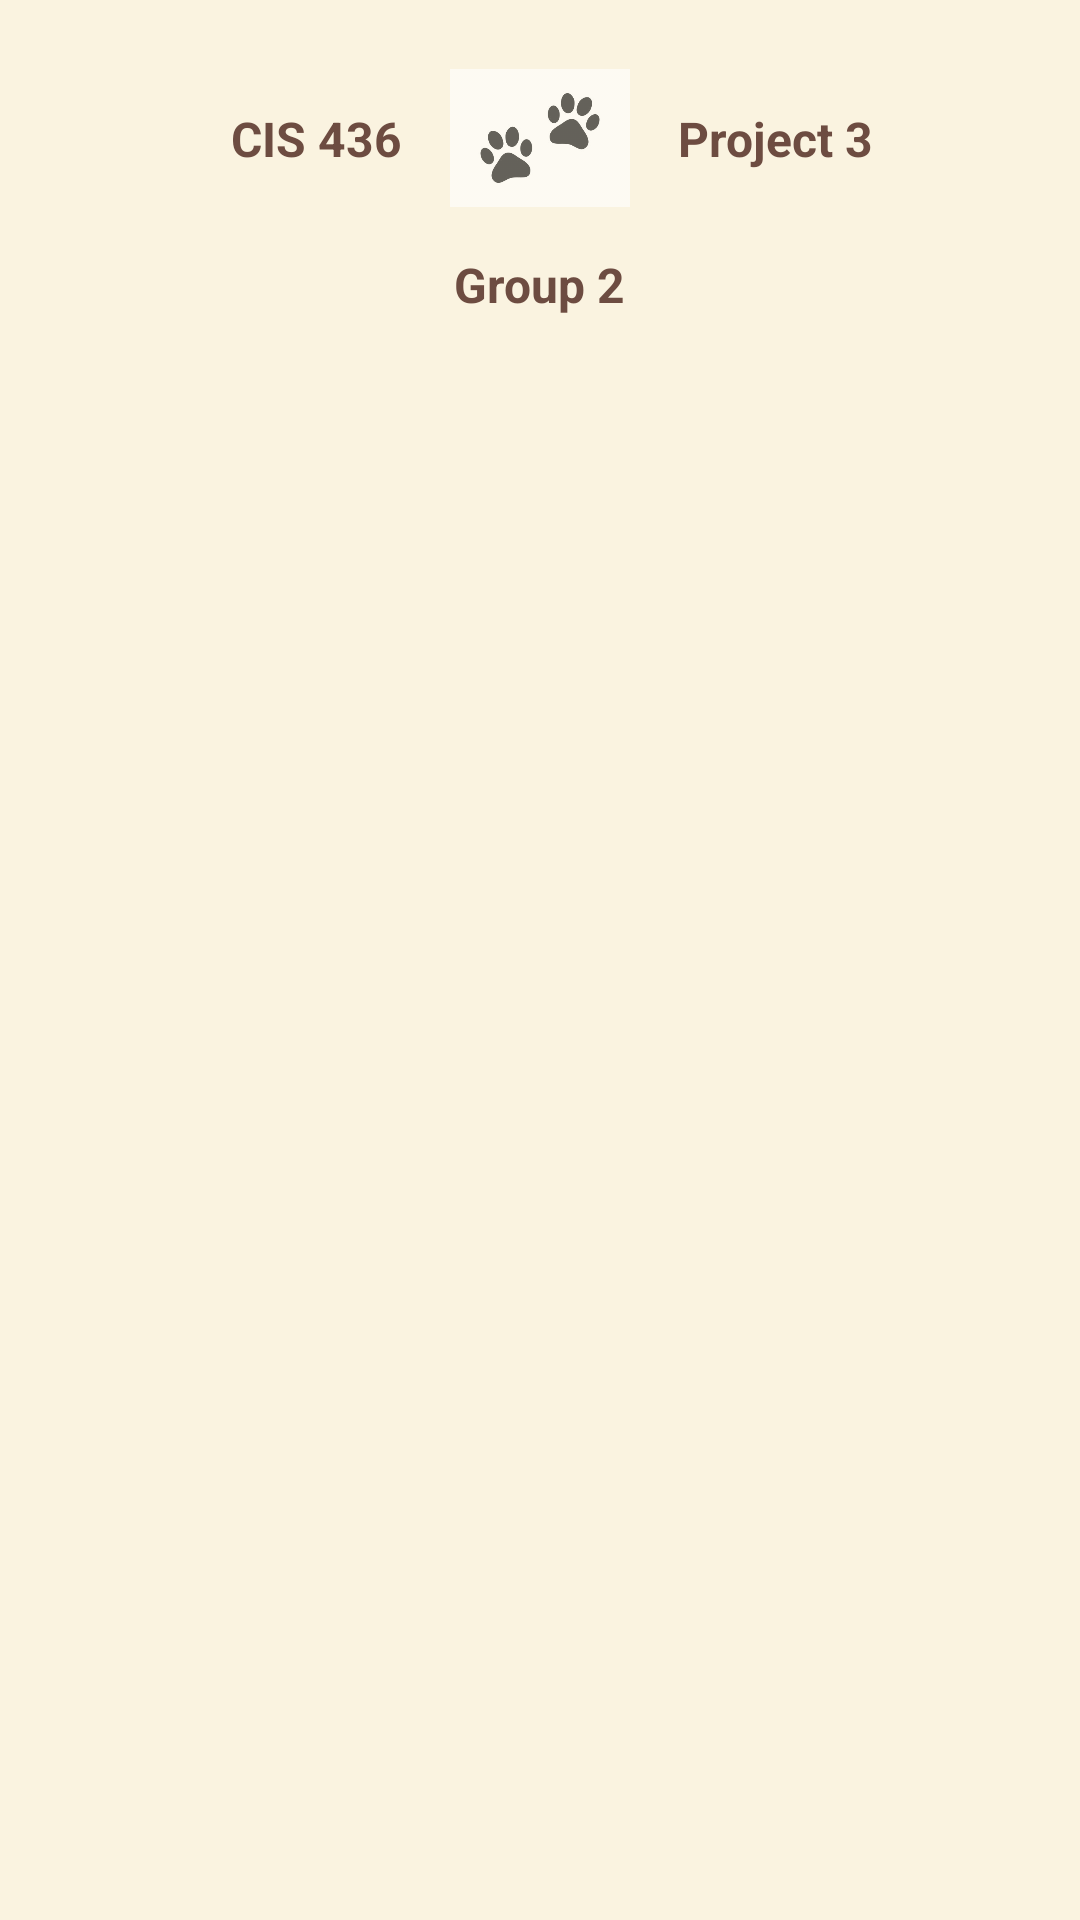

Locate icon controls on the screen. Image size 1080w x 1920h, boxes as [x1,y1,x2,y2].
Paw Icon: [450,69,630,207]
